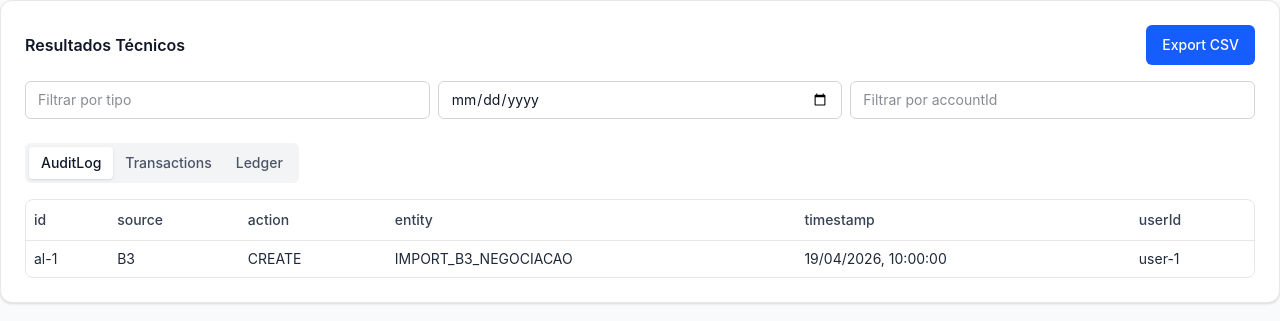
Test: ResultsTable › troca para Transactions e exibe dados
The image size is (1280, 321).
Click the tab "Transactions" at (169, 163), box [113,147,224,179]
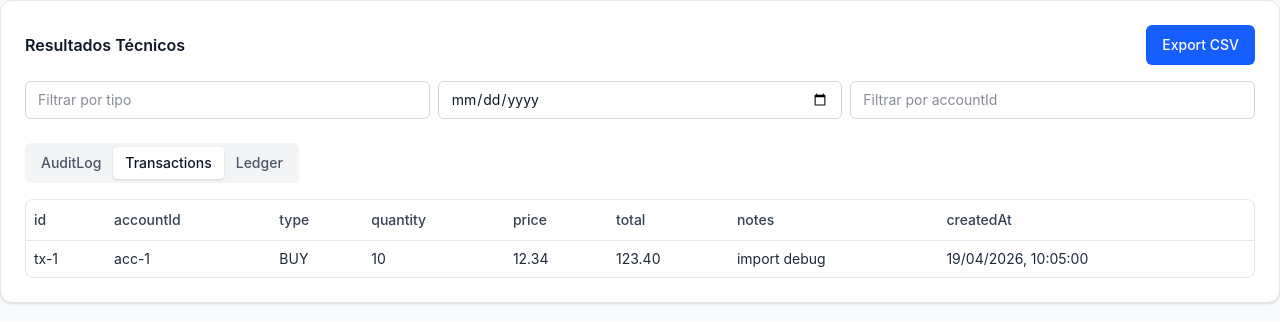
Result: the text "import debug" is shown at [729,240,938,276]
